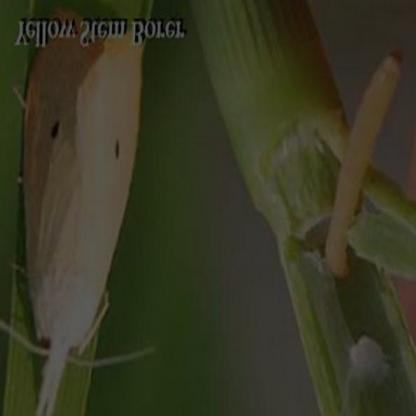stem-borer: (17, 50, 145, 416)
